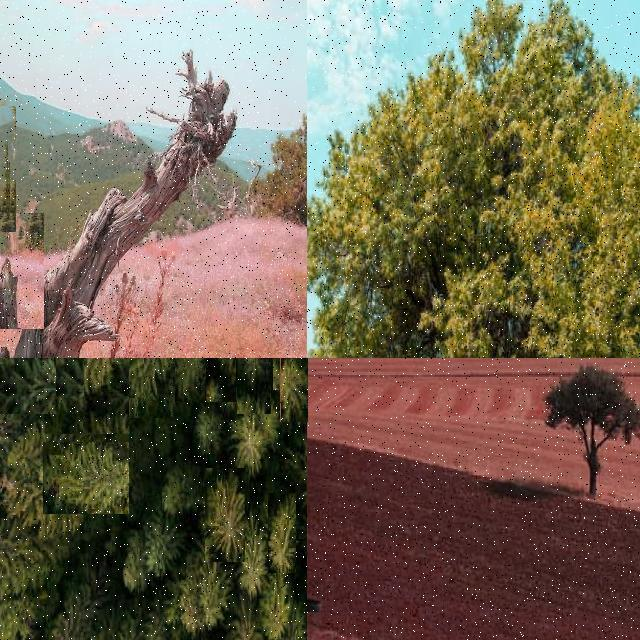tree: (307, 0, 640, 358), (0, 0, 96, 358), (516, 104, 640, 358), (540, 364, 640, 496), (251, 110, 307, 228), (45, 358, 129, 434), (43, 442, 129, 514), (0, 213, 44, 329), (51, 358, 111, 422), (205, 468, 245, 562), (0, 358, 56, 414), (121, 358, 173, 418), (22, 358, 84, 398), (240, 515, 268, 599), (268, 493, 296, 573), (144, 517, 178, 579), (92, 358, 144, 398), (264, 571, 294, 640), (210, 358, 250, 407), (237, 358, 271, 414), (0, 358, 36, 410), (137, 358, 173, 408), (280, 358, 308, 422), (193, 395, 220, 461), (206, 358, 236, 402), (175, 358, 205, 402), (270, 358, 298, 398), (238, 358, 266, 394), (170, 358, 198, 392), (0, 180, 16, 232), (0, 108, 8, 212), (0, 138, 16, 186), (273, 358, 295, 390), (280, 358, 304, 387), (242, 358, 264, 386), (0, 106, 16, 142), (0, 162, 10, 218), (0, 193, 14, 231)
